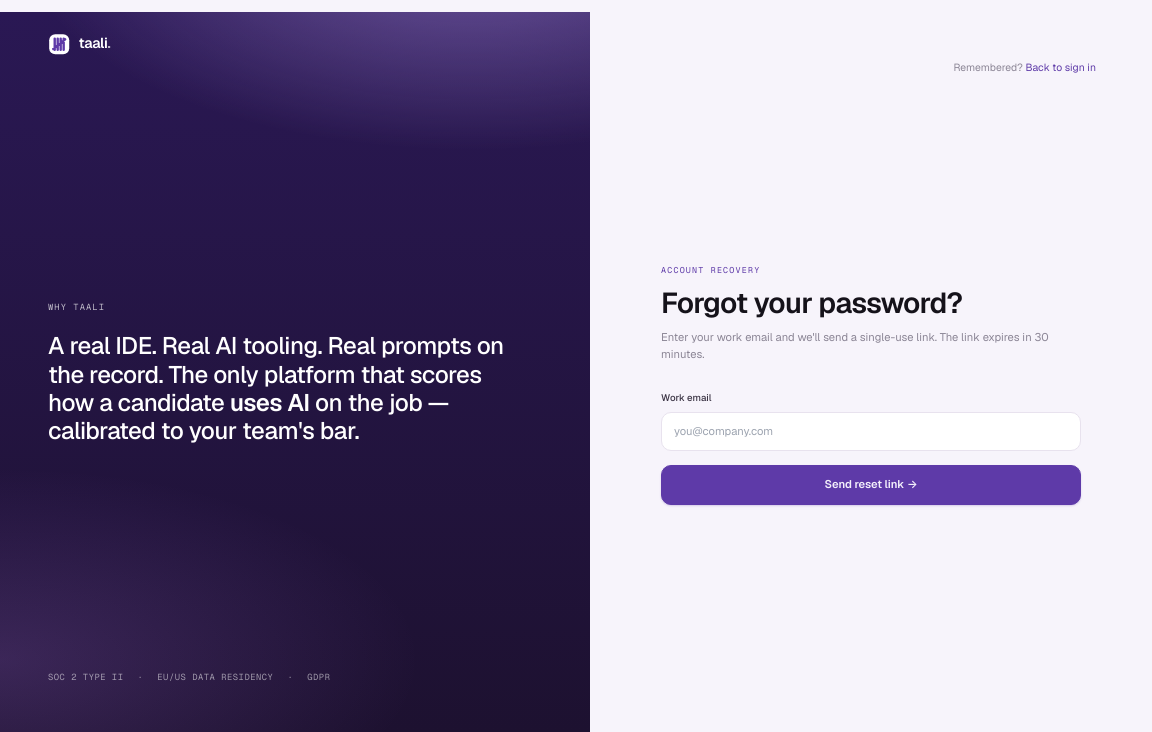
Test: Auth page redesign › shows the redesigned forgot-password confirmation state
expect the heading "Forgot your password?" is shown: met, box [661,284,962,321]
Step 1. Type "sam@taali.ai" into the field with placeholder "you@company.com" → [871, 431], box [661,412,1081,451]
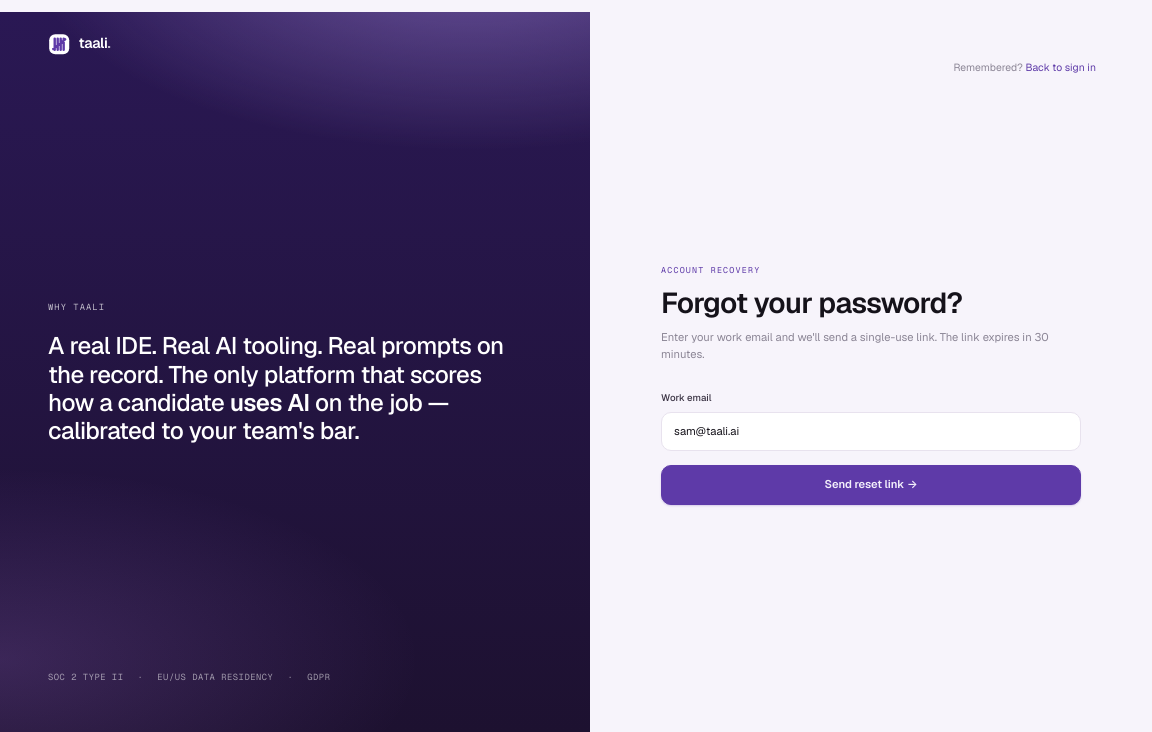
Step 2. Click the button "Send reset link →" → [871, 485], box [661,465,1081,505]
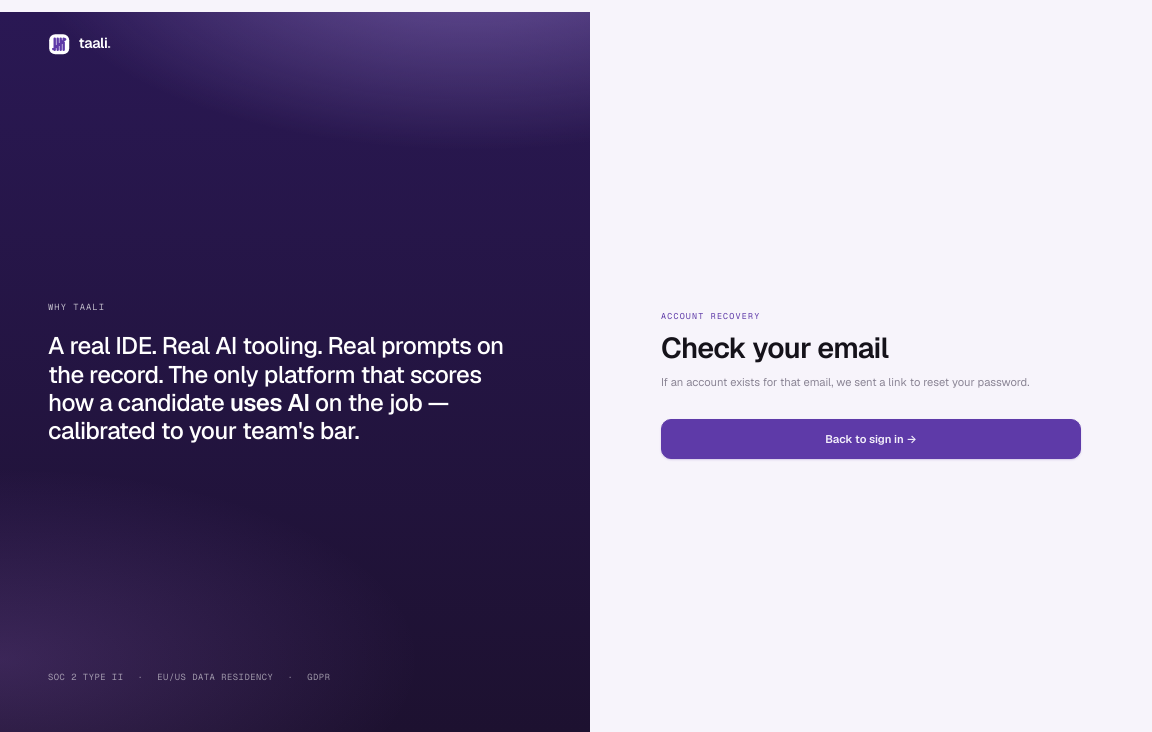
expect the heading "Check your email" is shown: met, box [661,329,888,366]
